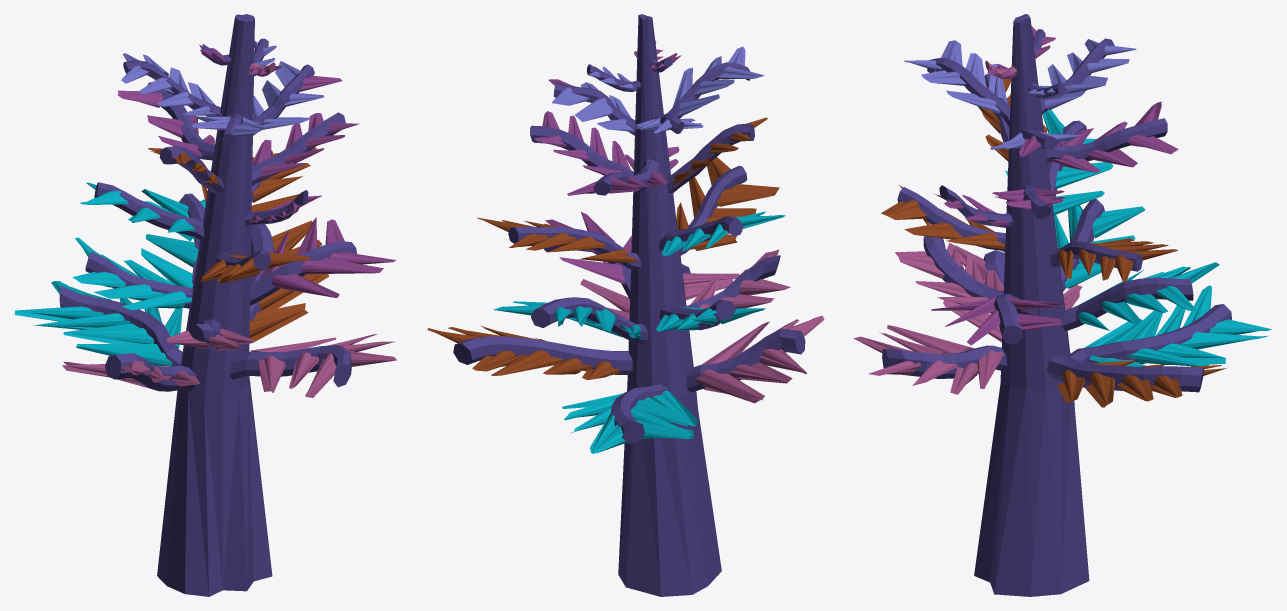
Rendered from sharp_tree.fbx.
3 views of the same model, side by side, from view 1: azimuth 30°, elevation 25°; view 2: azimuth 150°, elevation 25°; view 3: azimuth 270°, elevation 25° (orthographic). The views are drawn at different scales.
Parts seen in each view (by area): view 1: mesh2138483446; view 2: mesh2138483446; view 3: mesh2138483446.
Part boxes in pixels (<box>): mesh2138483446: <box>14,14,396,596</box>; mesh2138483446: <box>427,14,824,596</box>; mesh2138483446: <box>853,14,1272,596</box>.
Size of the model in its own units: 1.02 by 1.7 by 1.13.
